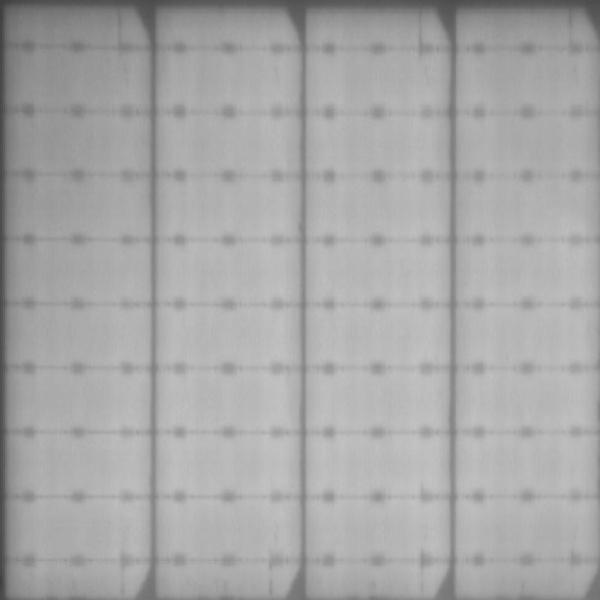scratch: (109, 1, 128, 50), (413, 1, 427, 61), (562, 6, 580, 52)
